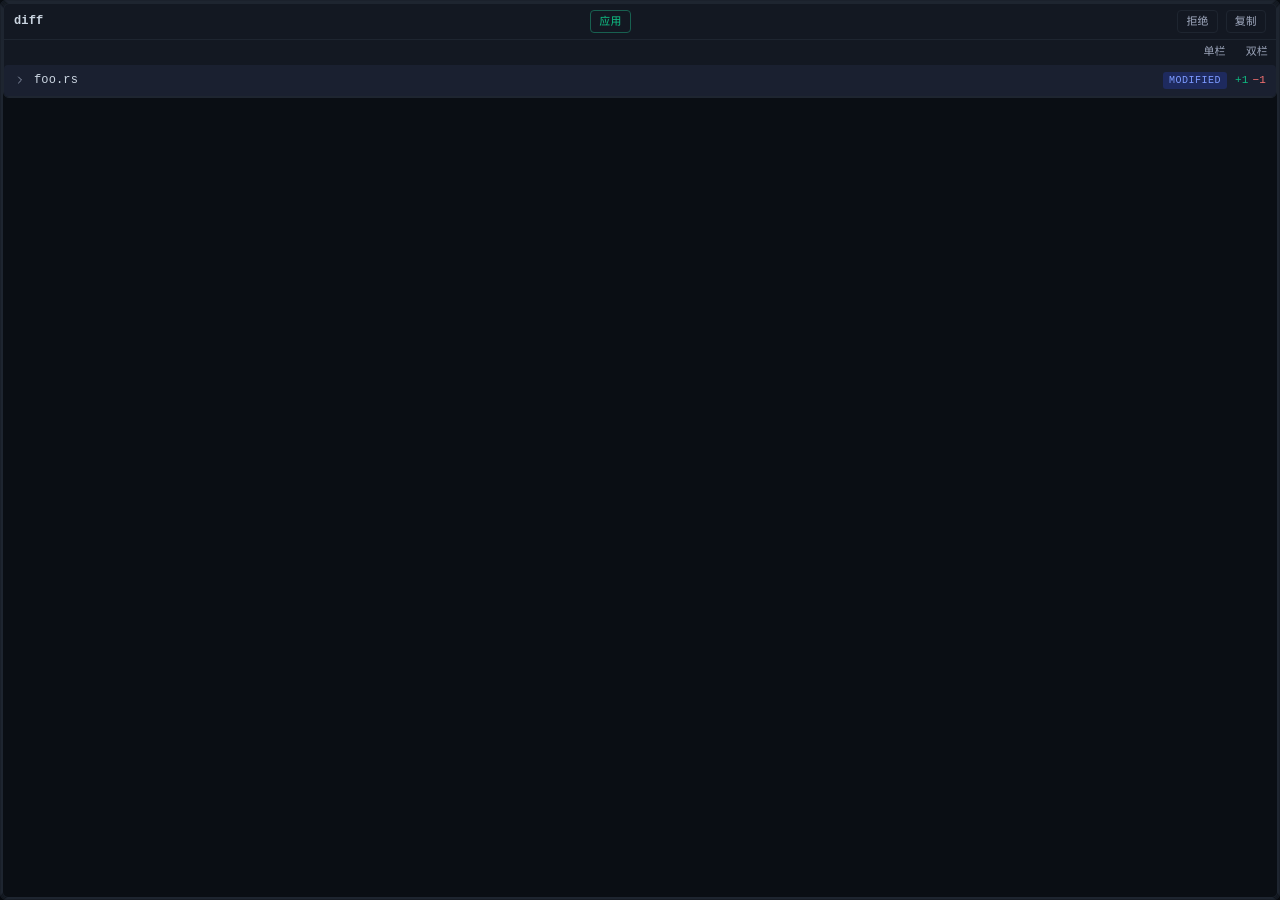
Scenario: DiffPrimitive — Apply button (B9+ D4) › surfaces backend failure as inline error keyed by `kind`
Click the button with class "ui-prim__apply": x=610, y=22 x1=590 y1=10 x2=631 y2=33
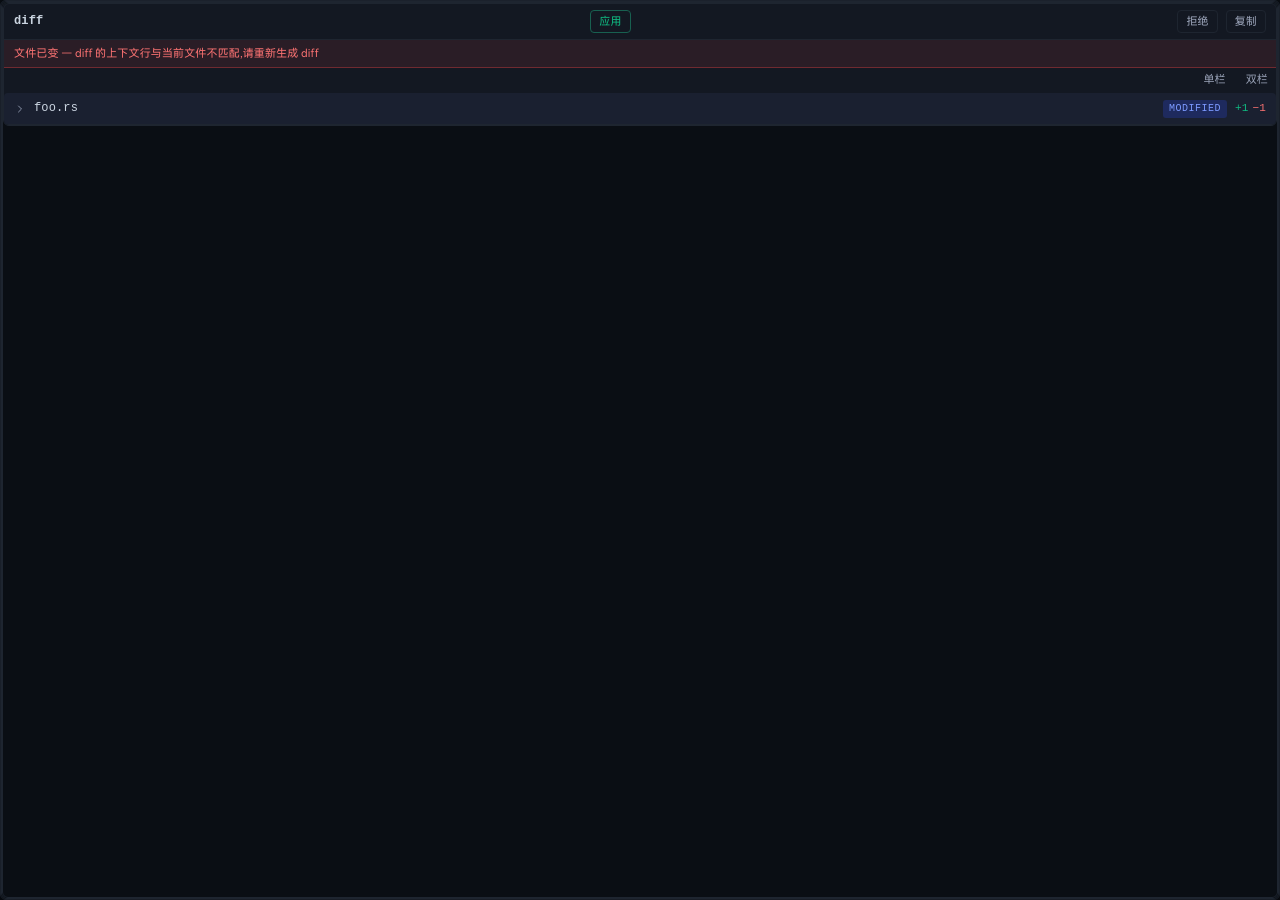
Expected: the message "文件已变 — diff 的上下文行与当前文件不匹配,请重新生成 diff" is shown, x1=4 y1=40 x2=1276 y2=68
Expected: the message with class "ui-prim__error" shows "文件已变", x1=14 y1=47 x2=319 y2=60
